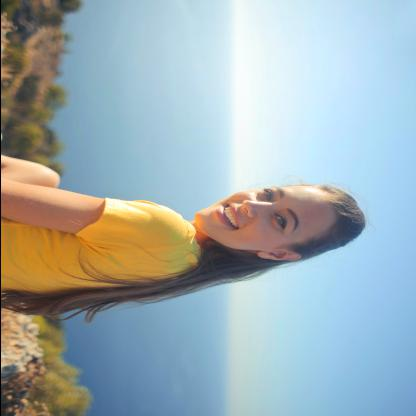Eye: (270, 211, 286, 230), (260, 188, 272, 202)
Mouth: (214, 202, 242, 231)
Nose: (239, 201, 280, 219)
